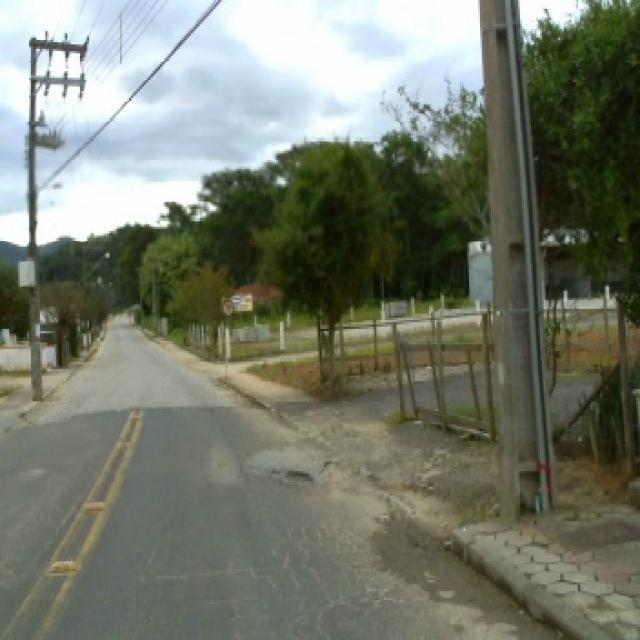Poth-hole: (176, 518, 424, 636), (46, 556, 76, 572), (282, 467, 313, 482), (316, 456, 333, 474), (86, 500, 106, 509), (267, 464, 278, 474), (116, 440, 129, 447), (129, 413, 140, 418)
